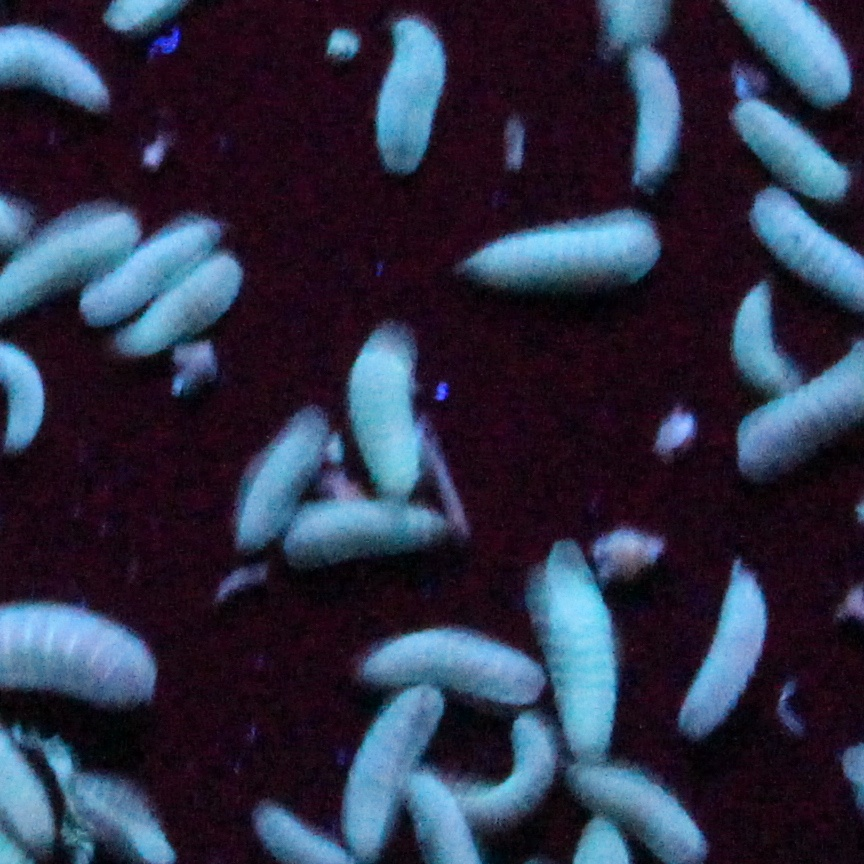larve: (528, 534, 620, 755), (343, 684, 443, 851), (683, 559, 768, 740), (360, 623, 547, 703), (460, 213, 666, 280), (89, 215, 220, 319), (118, 255, 247, 355), (239, 409, 328, 546), (374, 19, 453, 173), (733, 101, 853, 201), (349, 326, 416, 501), (283, 503, 447, 569), (60, 773, 178, 863), (628, 40, 687, 184), (730, 280, 799, 392)
